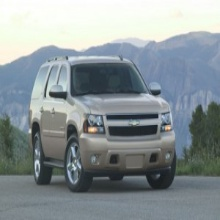no damage: (28, 56, 178, 191)
